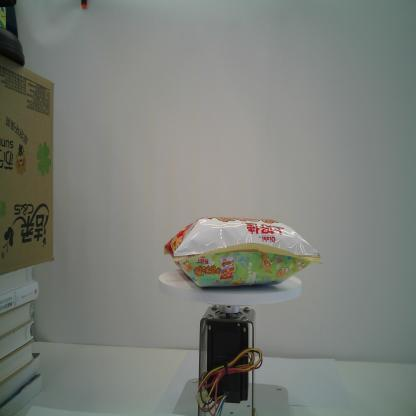Puffed Food: (163, 216, 323, 287)
